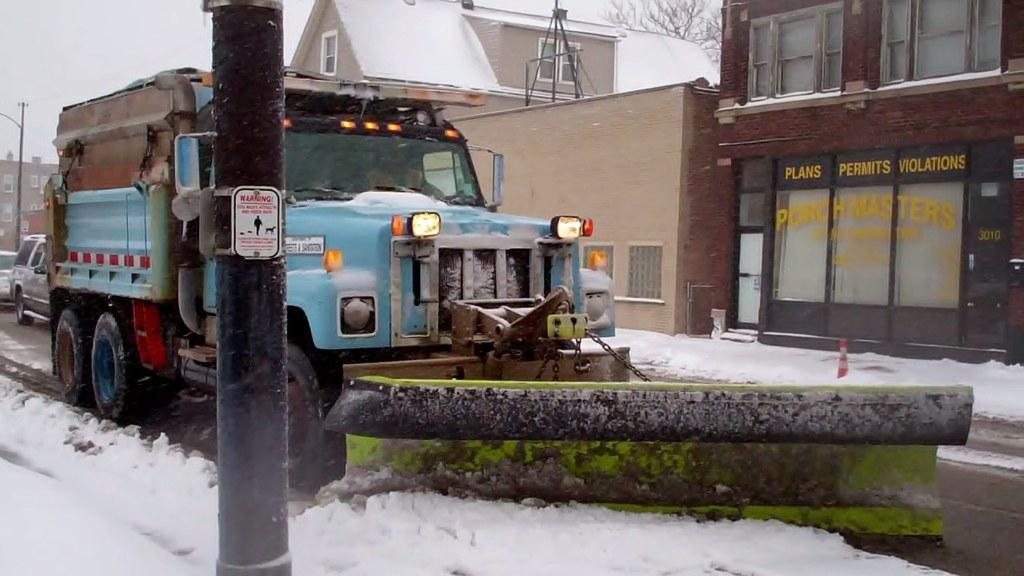Car: (7, 238, 50, 325), (0, 248, 16, 302)
